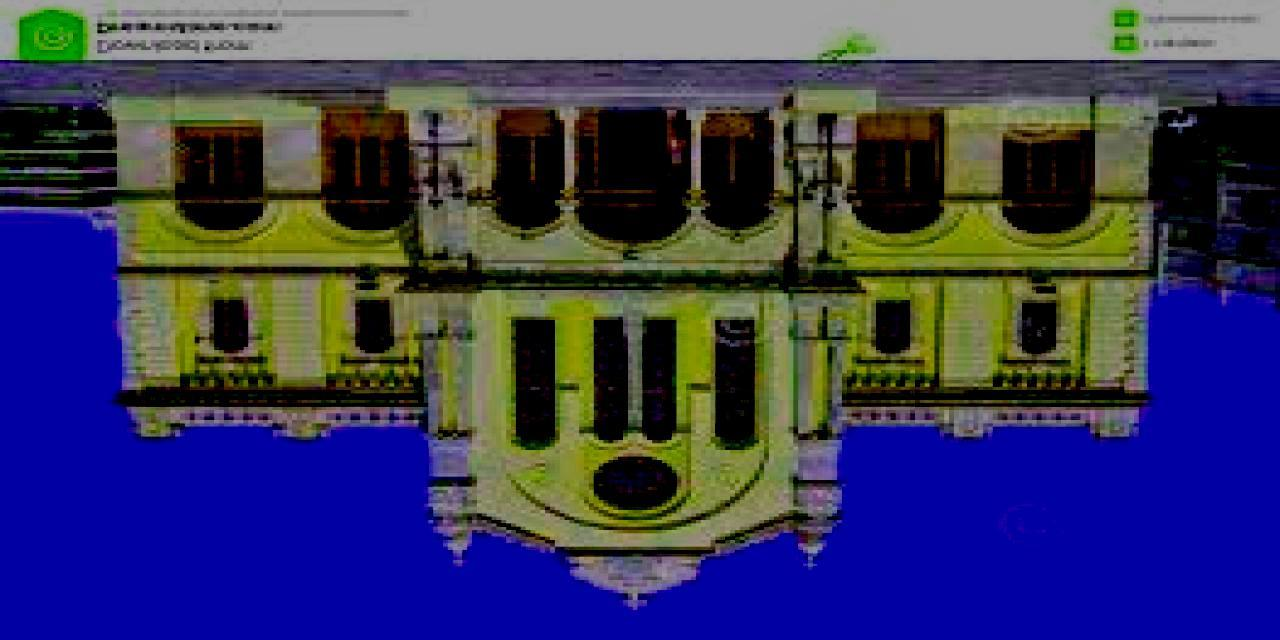Agios Minas: (123, 91, 1159, 638)
